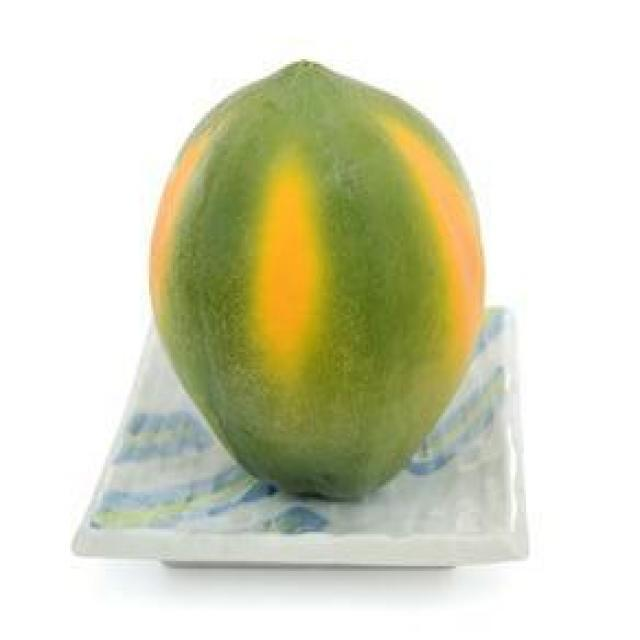Pepaya rippen: (131, 55, 496, 505)
